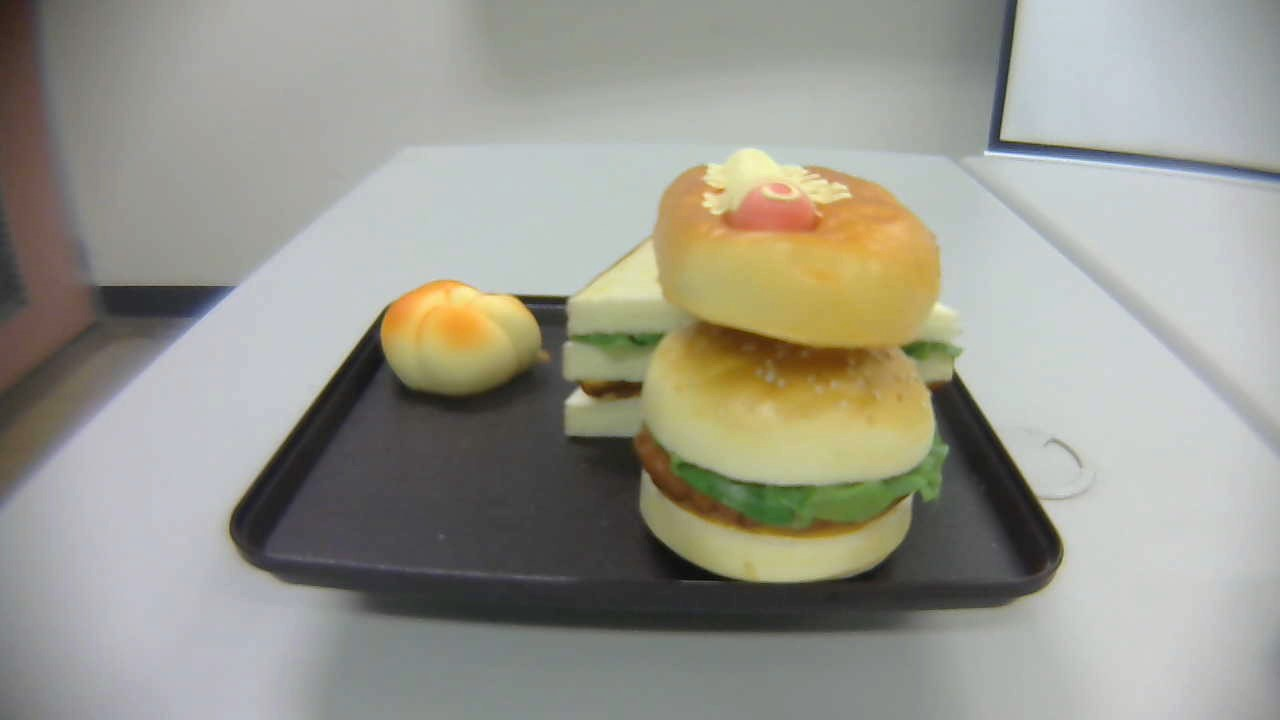hamburger: (636, 313, 951, 586)
hot dog: (653, 148, 943, 350)
sandwich: (562, 202, 963, 438)
twist bread: (382, 277, 549, 397)
